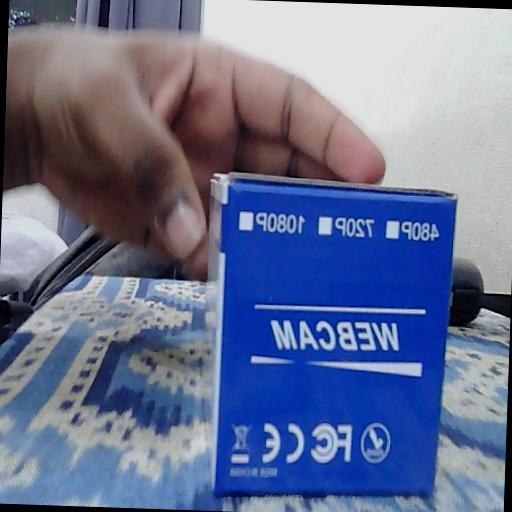webcam_box: (197, 170, 458, 507)
